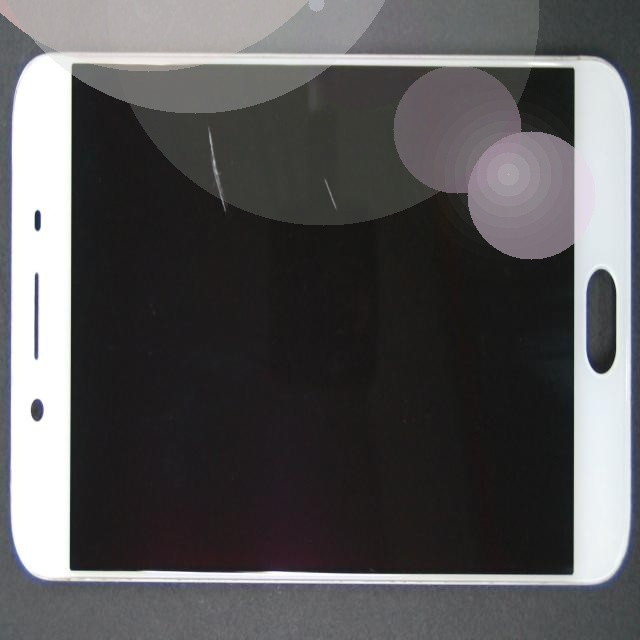scratch: (189, 139, 513, 295), (129, 136, 336, 239)
